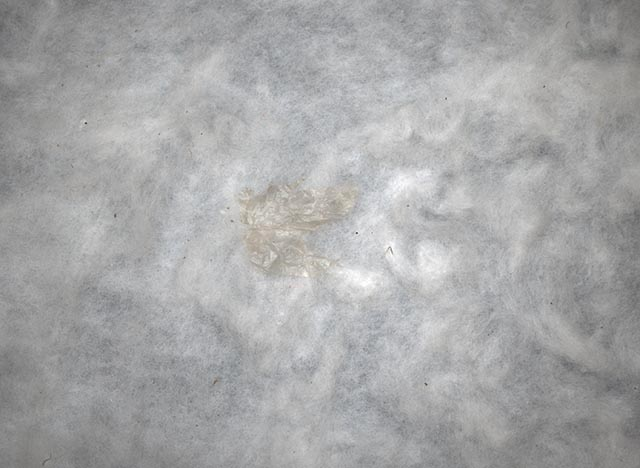plastic film: (237, 180, 358, 280)
